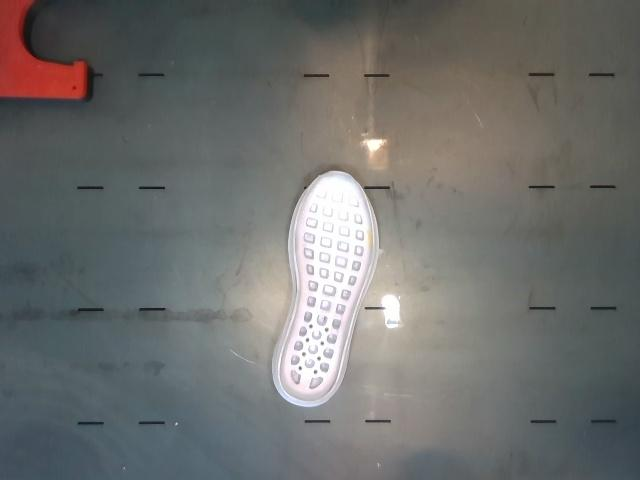shoes: (279, 172, 373, 401)
